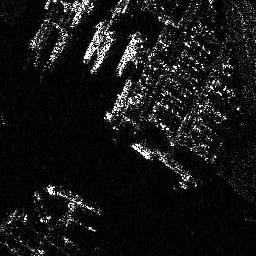ship: (105, 77, 129, 124), (91, 29, 114, 75), (117, 30, 140, 73), (82, 19, 104, 63)
